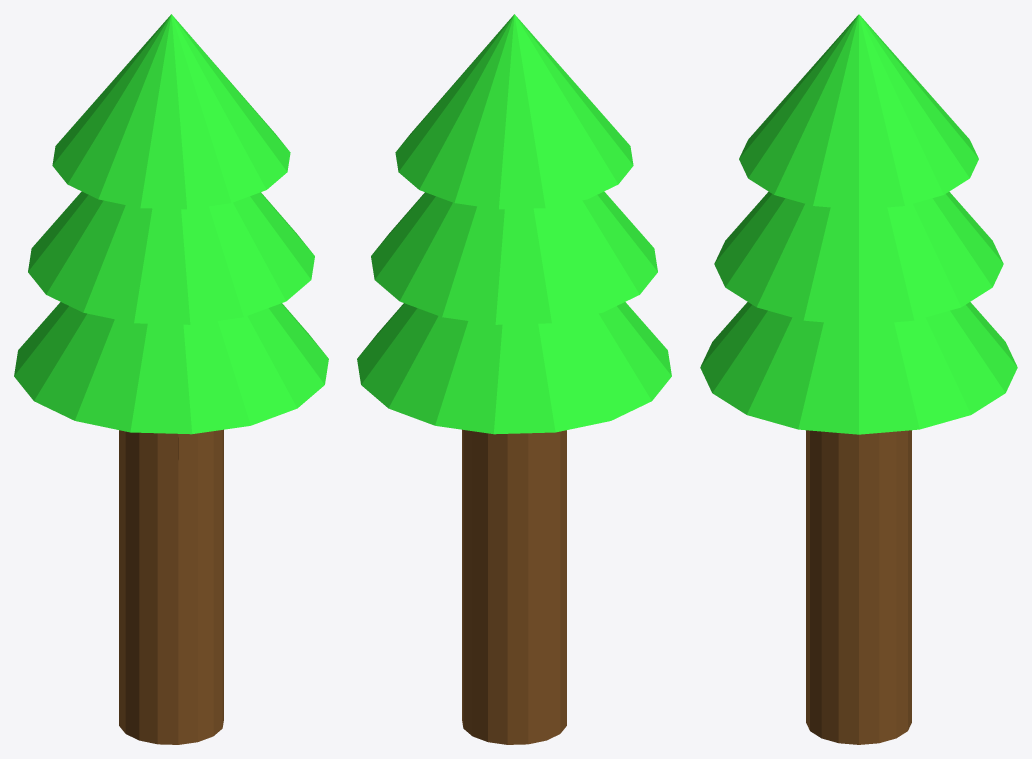
File: tree.obj
3 renders of one model, left to right at view 1: azimuth 30°, elevation 25°; view 2: azimuth 150°, elevation 25°; view 3: azimuth 270°, elevation 25°, orthographic.
Parts seen in each view (by area): view 1: 円錐.002; view 2: 円錐.002; view 3: 円錐.002.
Boxes of the visible parts, x1,y1,x2,y2 form: 円錐.002: (14, 14, 328, 744); 円錐.002: (357, 14, 671, 744); 円錐.002: (700, 14, 1017, 744).
Size of the model in its own units: 1.5 by 3.69 by 1.5.
1 material, 1 textured.
